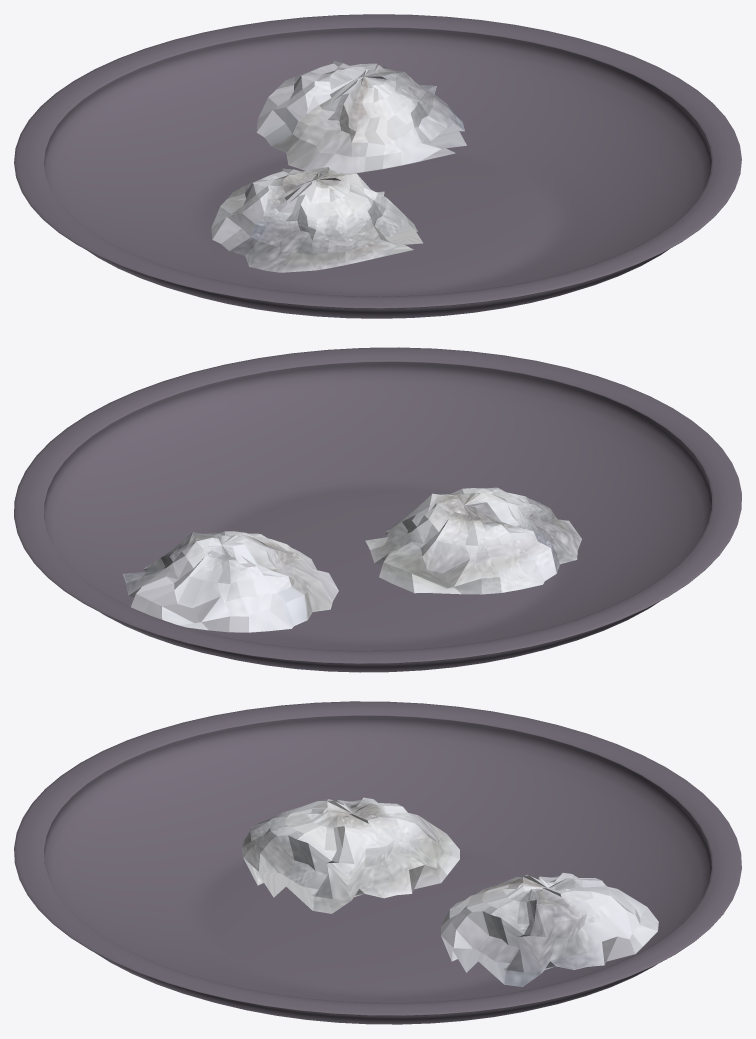
The model's file is GULA GARAM.glb.
3 views of the same model, one above another, from view 1: azimuth 30°, elevation 25°; view 2: azimuth 150°, elevation 25°; view 3: azimuth 270°, elevation 25° (orthographic).
Visible parts, largest first — view 1: Object_2.003, Sphere.003, Sphere.002; view 2: Object_2.003, Sphere.002, Sphere.003; view 3: Object_2.003, Sphere.002, Sphere.003.
Part boxes in pixels (x1,y1,x2,y2): Object_2.003: (14, 14, 741, 318); Sphere.003: (256, 61, 466, 173); Sphere.002: (211, 167, 422, 272); Object_2.003: (14, 347, 741, 672); Sphere.002: (365, 487, 581, 594); Sphere.003: (123, 531, 338, 632); Object_2.003: (14, 701, 741, 1024); Sphere.002: (242, 797, 459, 913); Sphere.003: (441, 872, 658, 986).
Bounding box in the file's own units: 2.37 × 0.2914 × 2.37.
12 materials, 11 textured.
